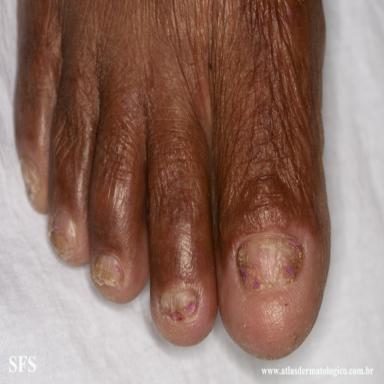Epidermolysis-Bullosa-Pruriginosa: (236, 233, 303, 292), (163, 290, 197, 321)
